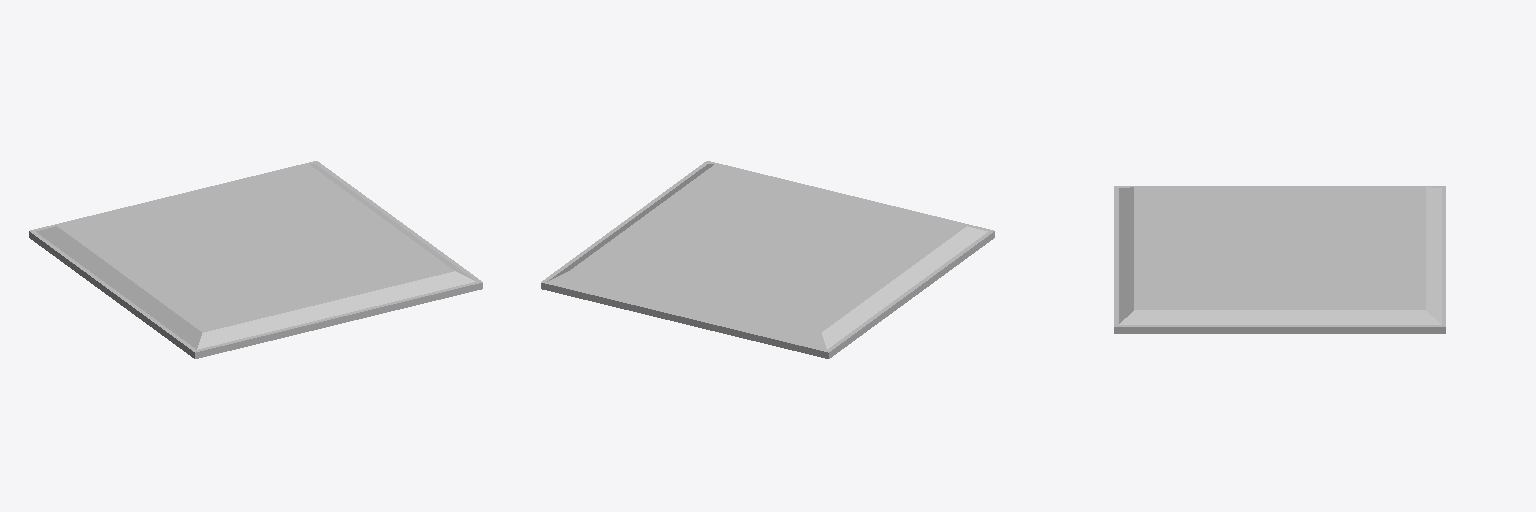
File: comp_roof_2.obj
3 views of the same model, side by side, from view 1: azimuth 30°, elevation 25°; view 2: azimuth 150°, elevation 25°; view 3: azimuth 270°, elevation 25° (orthographic).
Visible parts, largest first — view 1: pCube4; view 2: pCube4; view 3: pCube4.
Boxes of the visible parts, x1=… form: pCube4: x1=29, y1=161, x2=482, y2=358; pCube4: x1=541, y1=161, x2=994, y2=358; pCube4: x1=1114, y1=186, x2=1445, y2=333.
Bounding box in the file's own units: 9 × 0.436 × 9.